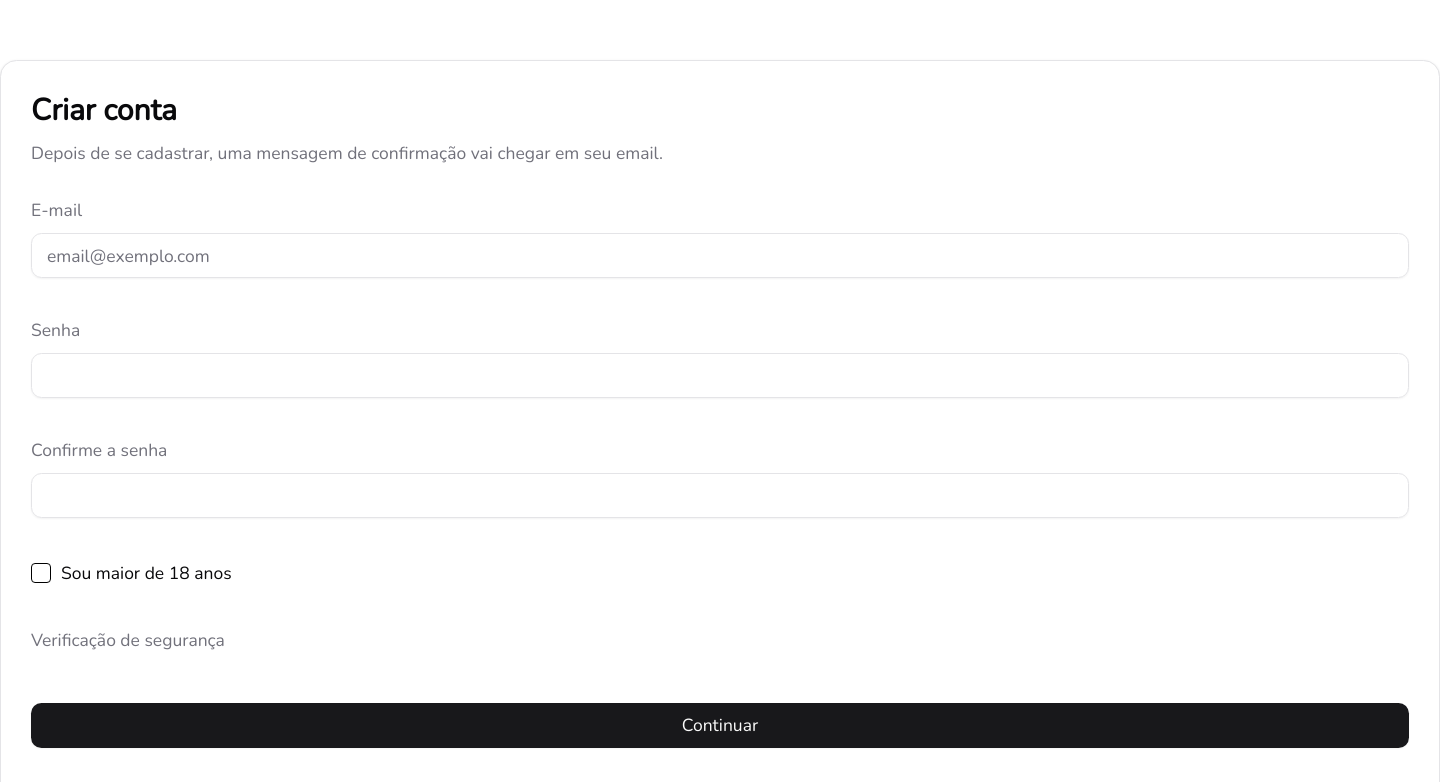
RegisterPage › refuses to send anything until the captcha has answered
The image size is (1440, 782).
Type "pessoa@exemplo.com" into the field labelled "E-mail" at (720, 256), box [31,234,1409,278]
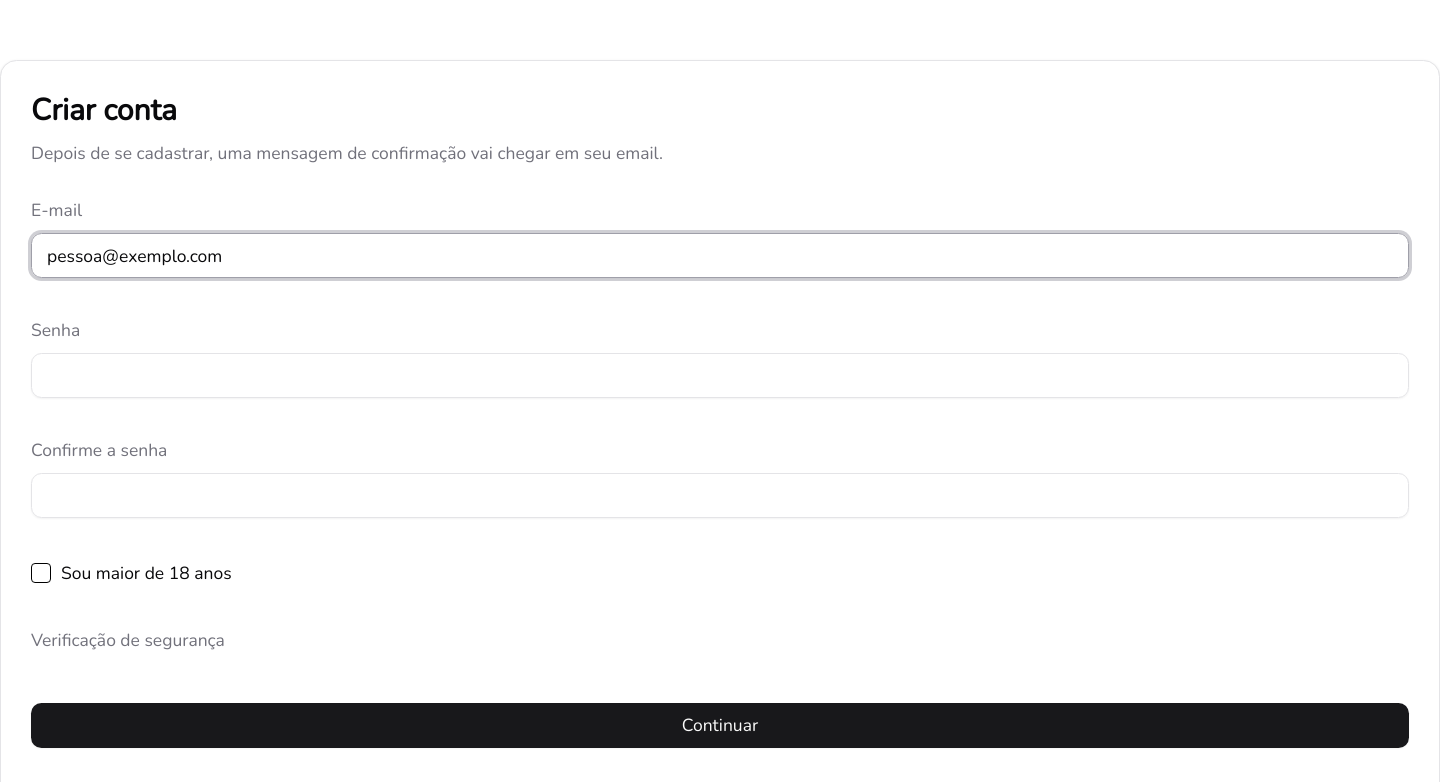
Type "segredo123" into the password field labelled "Senha" at (720, 376), box [31,354,1409,398]
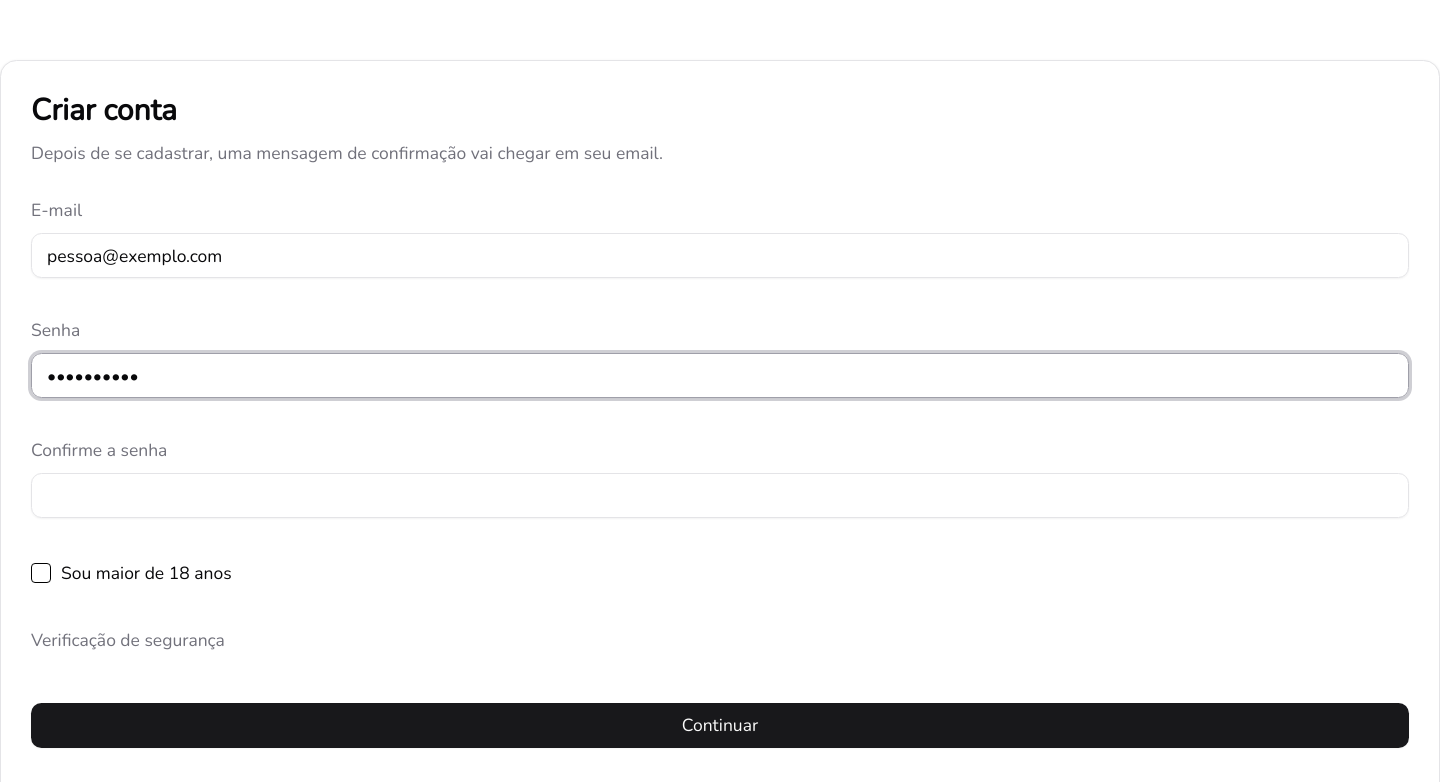
Type "segredo123" into the password field labelled "Confirme a senha" at (720, 496), box [31,474,1409,518]
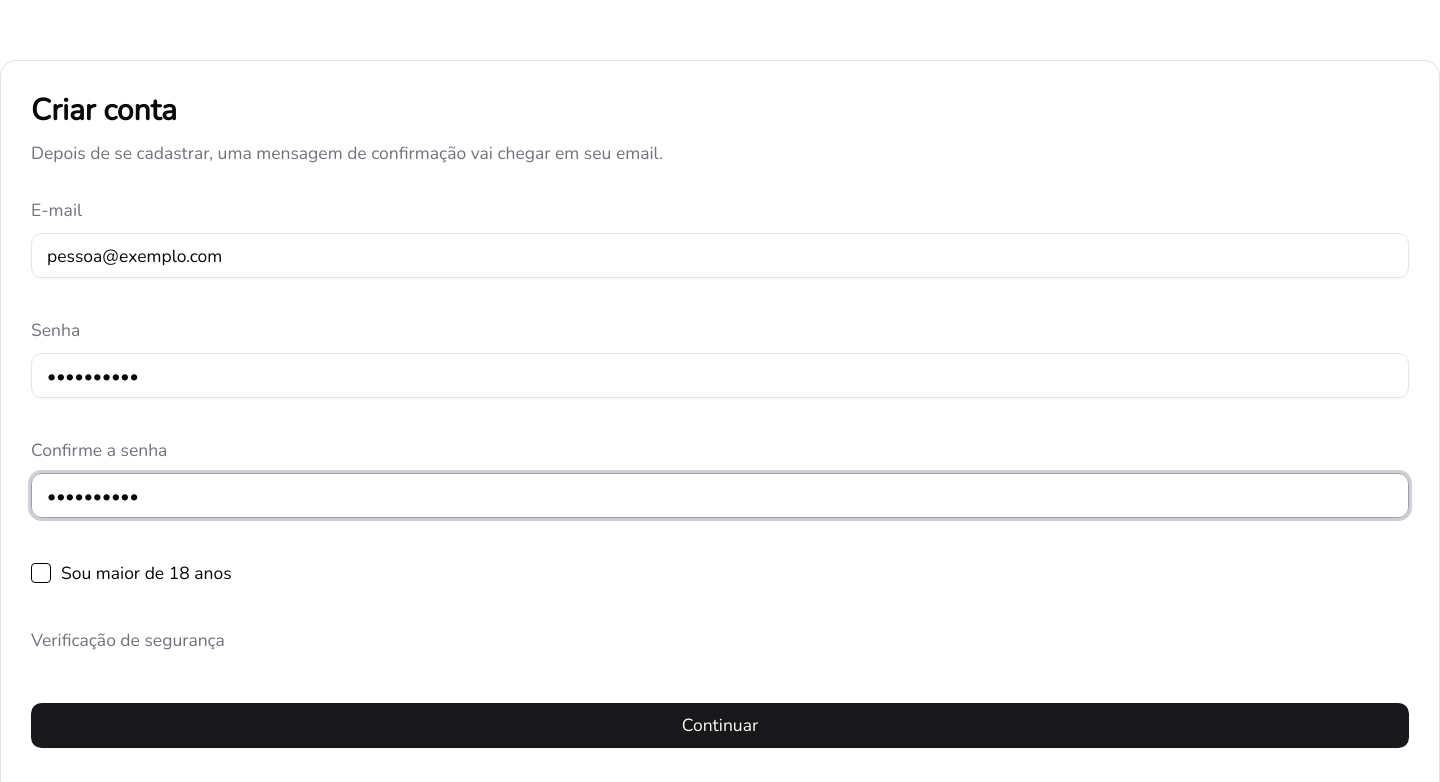
Click the checkbox labelled "Sou maior de 18 anos" at (131, 573), box [31,561,232,585]
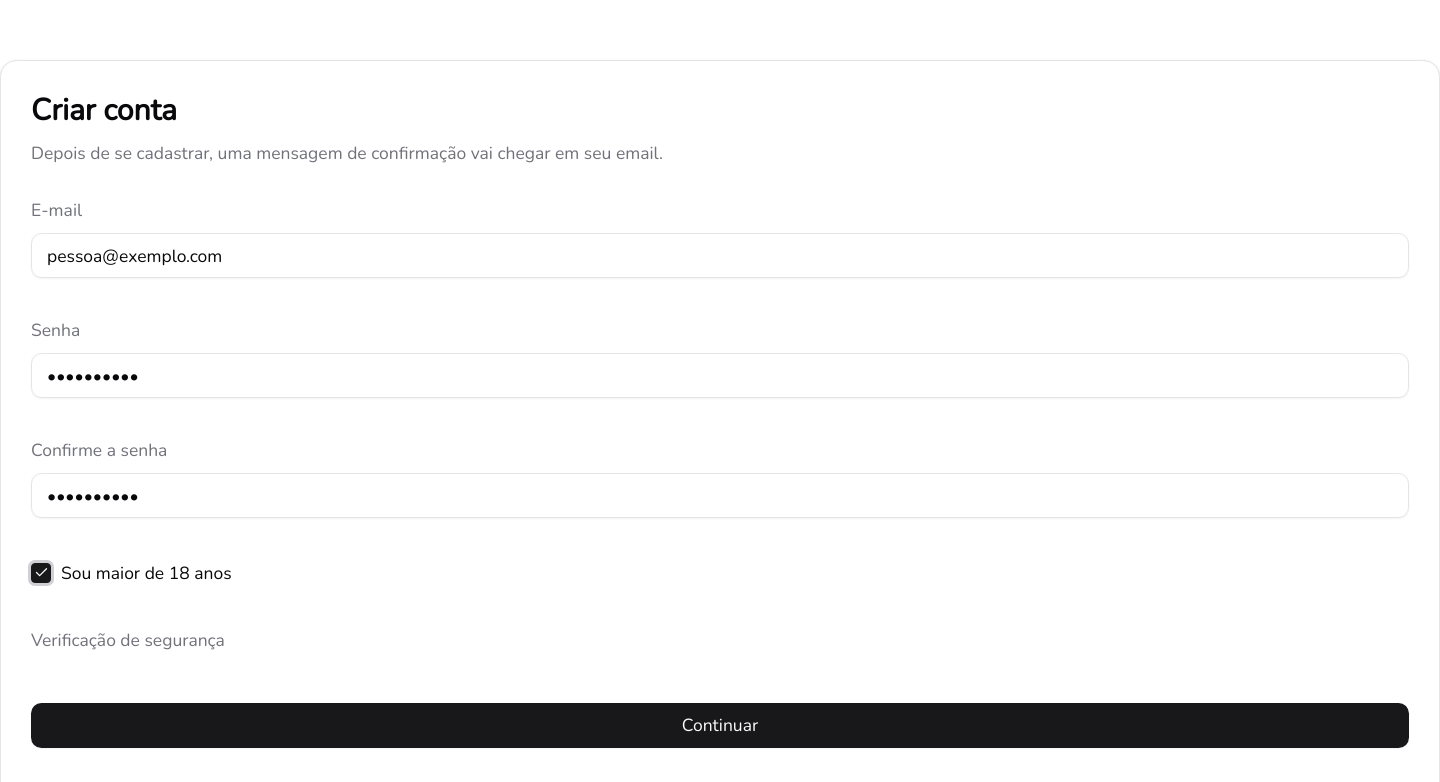
Click the button "Continuar" at (720, 726), box [31,704,1409,748]
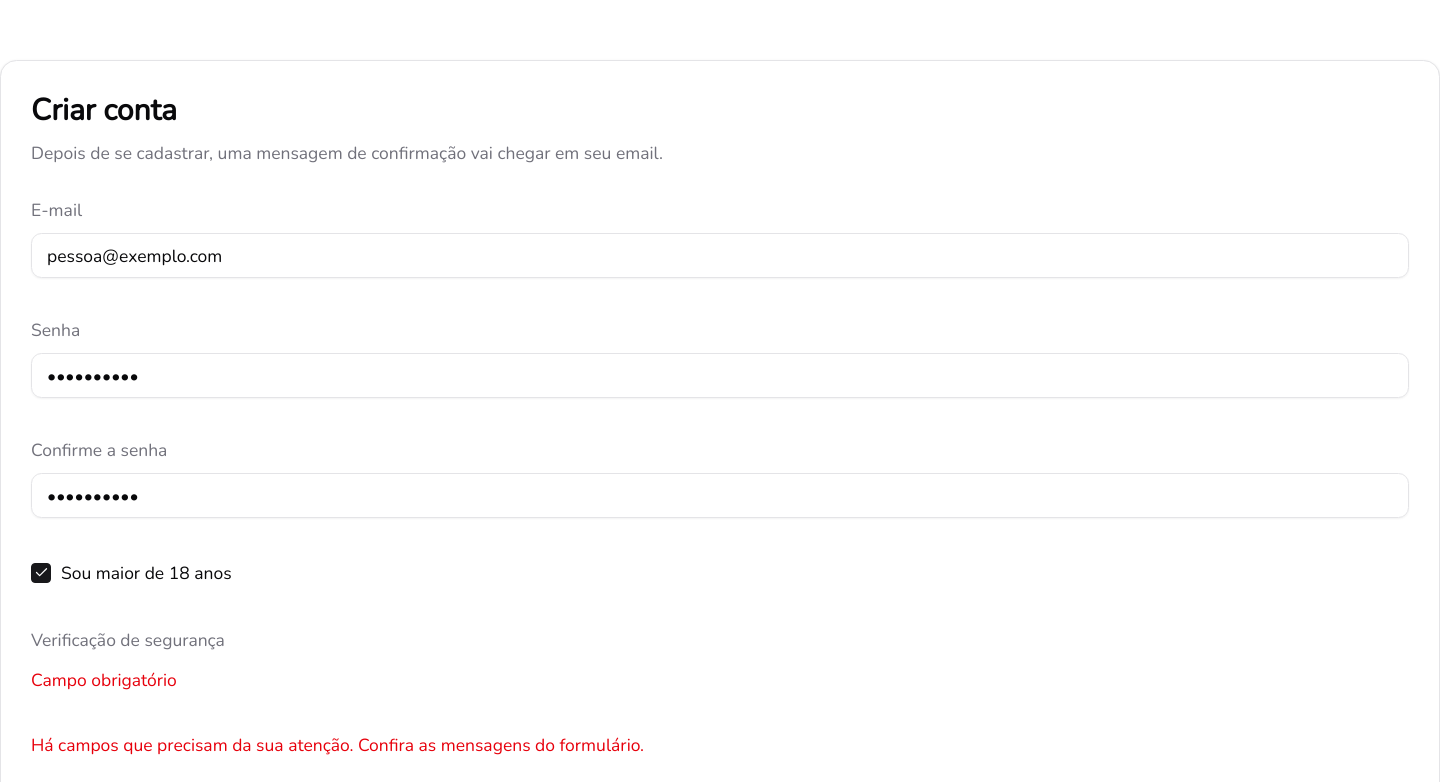
Result: the text "Campo obrigatório" is shown at [31,668,177,692]
